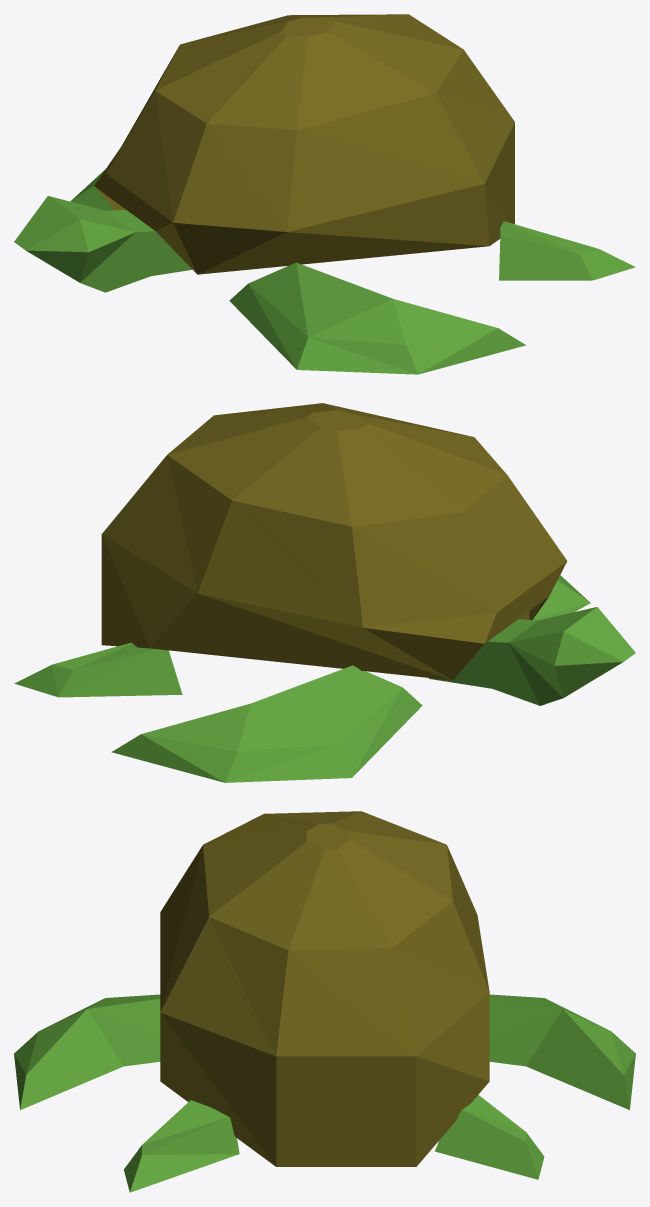
The model's file is inv_sea_turtle.obj.
The picture shows the model from 3 angles, top to bottom: view 1: azimuth 30°, elevation 25°; view 2: azimuth 150°, elevation 25°; view 3: azimuth 270°, elevation 25°; orthographic projection. The views are drawn at different scales.
Size of the model in its own units: 0.7969 by 0.3359 by 0.7969.
